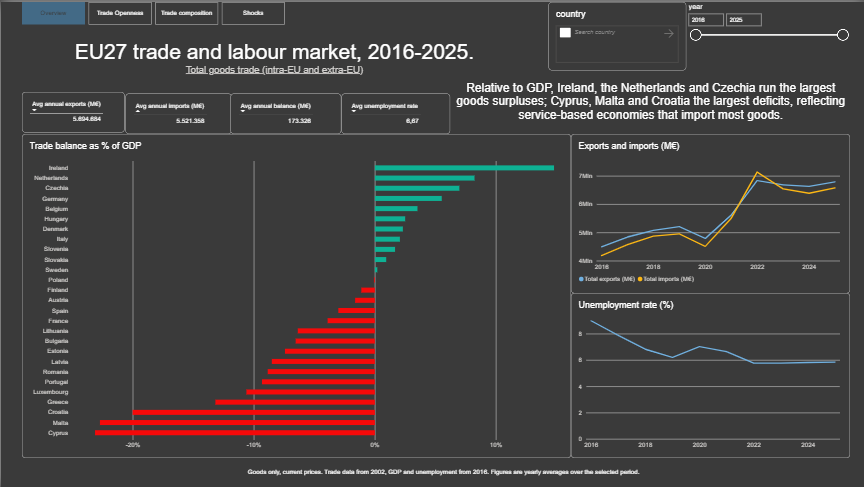

What the dashboard file says about the page in this screenshot:
{"tool":"powerbi","page":{"name":"Overview","canvas":[1920,1080],"ordinal":0},"visuals":[{"type":"textbox","title":"EU27 trade and labour market, 2016-2025.","box":[0,83.3,1215,116.7],"z":0},{"type":"textSlicer","fields":{"Values":["dim_country.country"]},"box":[1215,0,306,152],"z":1000},{"type":"slicer","fields":{"Values":["dim_year.year"]},"box":[1520,0,366.7,153.3],"z":2000},{"type":"tableEx","fields":{"Values":["_Measures.Avg annual exports (M€)"]},"box":[47.8,201.1,227.8,90],"z":3000},{"type":"tableEx","fields":{"Values":["_Measures.Avg annual imports (M€)"]},"box":[275.7,202.9,236,90],"z":4000},{"type":"tableEx","fields":{"Values":["_Measures.Avg annual balance (M€)"]},"box":[511.4,202.9,245.7,90],"z":5000},{"type":"tableEx","fields":{"Values":["_Measures.Avg unemployment rate"]},"box":[757.1,202.9,241.4,90],"z":6000},{"type":"barChart","title":"Trade balance as % of GDP","fields":{"Category":["dim_country.country"],"Y":["_Measures.Trade balance % of GDP"]},"box":[47.5,292.5,1220,720],"z":7000},{"type":"lineChart","title":"Exports and imports (M€)","fields":{"Category":["dim_year.year"],"Y":["_Measures.Total exports (M€)","_Measures.Total imports (M€)"]},"box":[1268,292,620,354],"z":8000},{"type":"lineChart","title":"Unemployment rate (%)","fields":{"Category":["dim_year.year"],"Y":["_Measures.Avg unemployment rate"]},"box":[1266.7,646.7,620,366.7],"z":9000},{"type":"textbox","box":[45,1035,1874,46],"z":10000},{"type":"pageNavigator","box":[47.5,0,587.1,50],"z":11000},{"type":"textbox","box":[1000,142.5,888,138],"z":12000}]}

Visuals, with their boxes in screenshot pixels (x1, y1, x2, y2), scaled from the page's 1920x1080 canvas onto the 864x487 screenshot:
"EU27 trade and labour market, 2016-2025." textbox: x1=0, y1=38, x2=547, y2=90
textSlicer - dim_country.country: x1=547, y1=0, x2=684, y2=69
slicer - dim_year.year: x1=684, y1=0, x2=849, y2=69
tableEx - _Measures.Avg annual exports (M€): x1=22, y1=91, x2=124, y2=131
tableEx - _Measures.Avg annual imports (M€): x1=124, y1=91, x2=230, y2=132
tableEx - _Measures.Avg annual balance (M€): x1=230, y1=91, x2=341, y2=132
tableEx - _Measures.Avg unemployment rate: x1=341, y1=91, x2=449, y2=132
"Trade balance as % of GDP" barChart: x1=21, y1=132, x2=570, y2=457
"Exports and imports (M€)" lineChart: x1=571, y1=132, x2=850, y2=291
"Unemployment rate (%)" lineChart: x1=570, y1=292, x2=849, y2=457
textbox: x1=20, y1=467, x2=863, y2=486
pageNavigator: x1=21, y1=0, x2=286, y2=23
textbox: x1=450, y1=64, x2=850, y2=126
